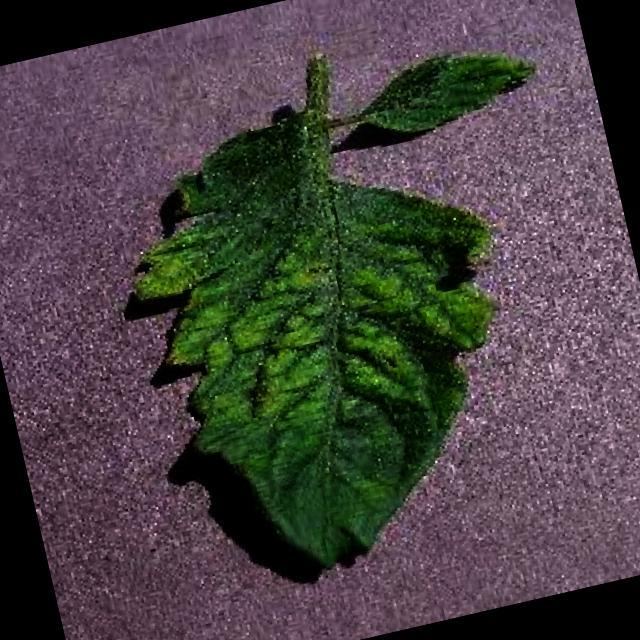Tomato mosaic virus leaf: (99, 69, 558, 605), (358, 33, 546, 147)
